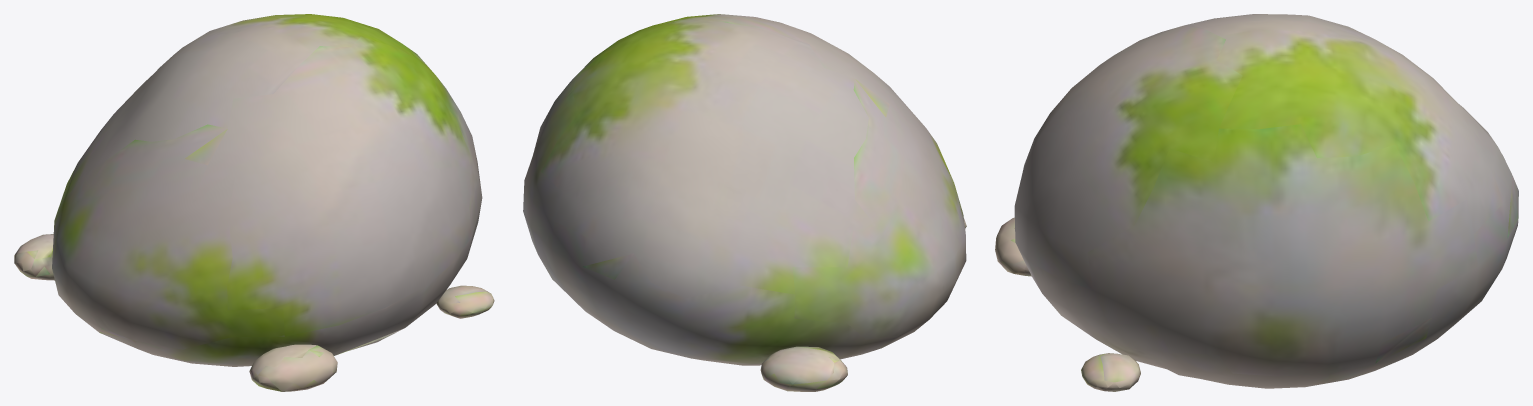
File: roca_rio_1.glb
The picture shows the model from 3 angles, left to right: view 1: azimuth 30°, elevation 25°; view 2: azimuth 150°, elevation 25°; view 3: azimuth 270°, elevation 25°; orthographic projection. The views are drawn at different scales.
Parts seen in each view (by area): view 1: roca_rio_1_malla; view 2: roca_rio_1_malla; view 3: roca_rio_1_malla.
Part boxes in pixels (left/top/right/bottom): roca_rio_1_malla: left=14, top=14, right=494, bottom=391; roca_rio_1_malla: left=523, top=14, right=966, bottom=391; roca_rio_1_malla: left=995, top=14, right=1518, bottom=391.
Bounding box in the file's own units: 0.293 × 0.2101 × 0.2967.
1 material, 1 textured.
